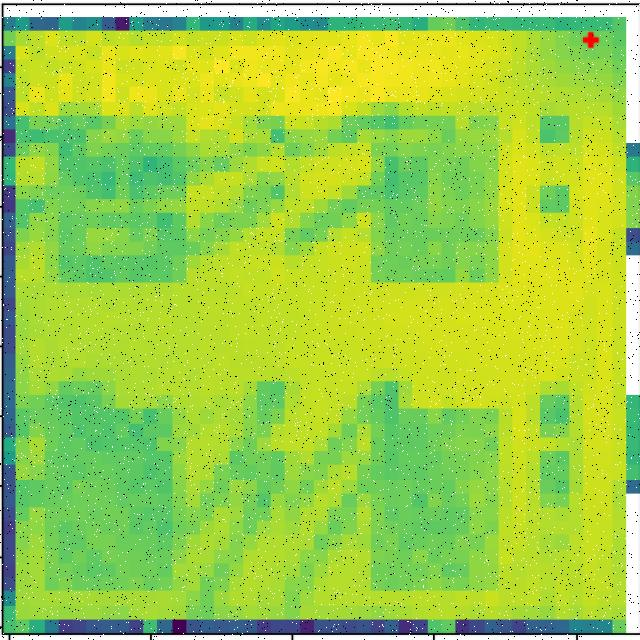Concrete: (47, 395, 171, 591)
Glass: (382, 408, 496, 590)
Metal: (60, 103, 186, 284)
Wood: (372, 112, 498, 284)
